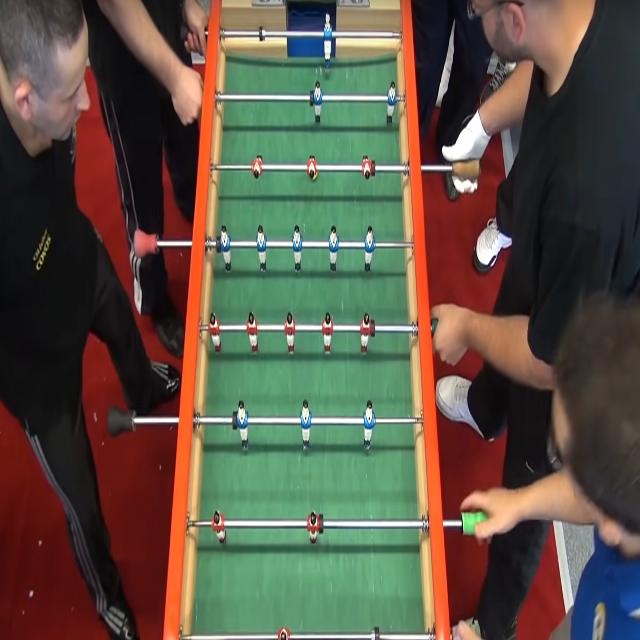ball: (312, 169, 319, 178)
